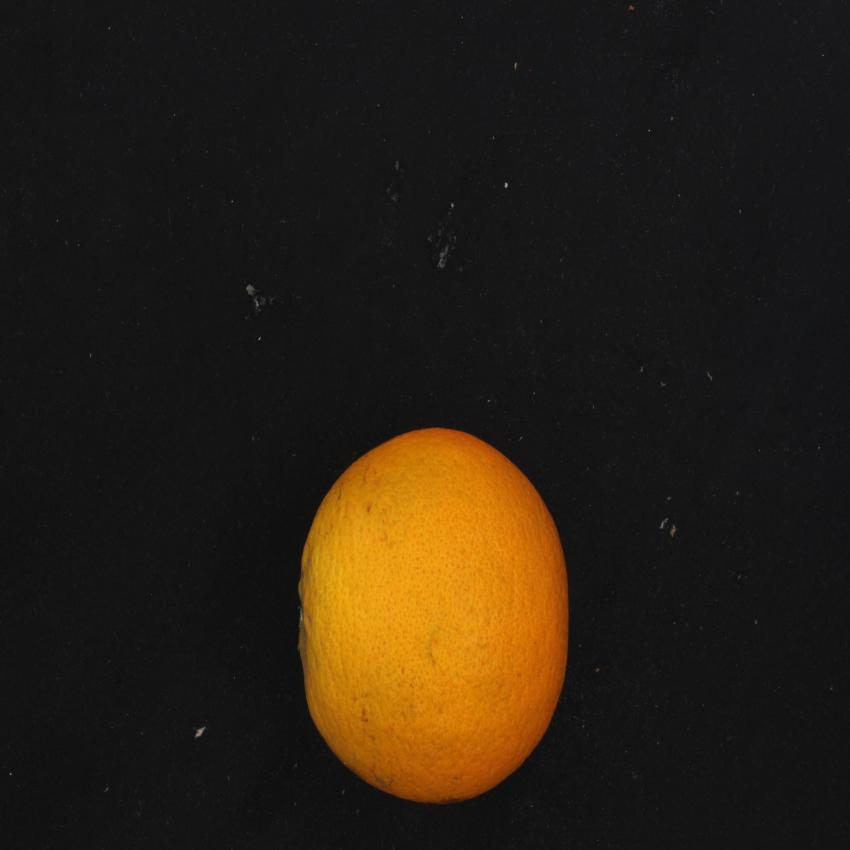Buen estado: (281, 407, 599, 820)
